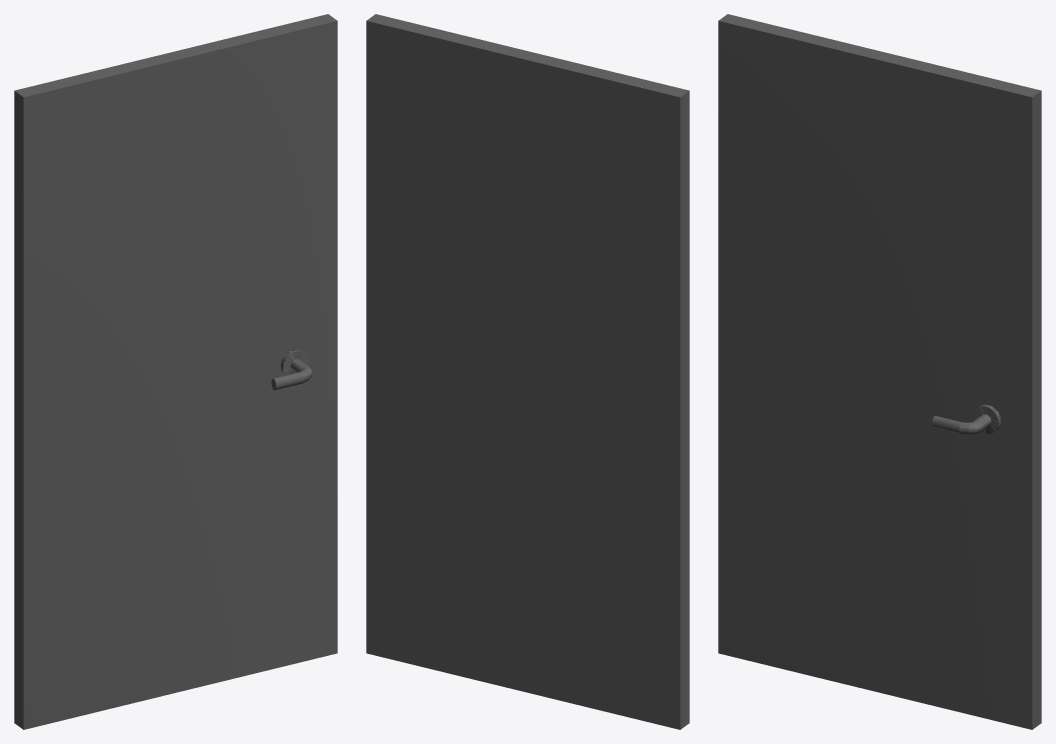
The model's file is Door.fbx.
3 renders of one model, left to right at view 1: azimuth 30°, elevation 25°; view 2: azimuth 150°, elevation 25°; view 3: azimuth 330°, elevation 25°, orthographic.
Parts seen in each view (by area): view 1: Cube.042; view 2: Cube.042; view 3: Cube.042.
Boxes of the visible parts, bbox=[...] form: Cube.042: bbox=[14, 14, 337, 729]; Cube.042: bbox=[366, 14, 689, 729]; Cube.042: bbox=[718, 14, 1041, 729].
Bounding box in the file's own units: 118 × 228 × 18.73.
